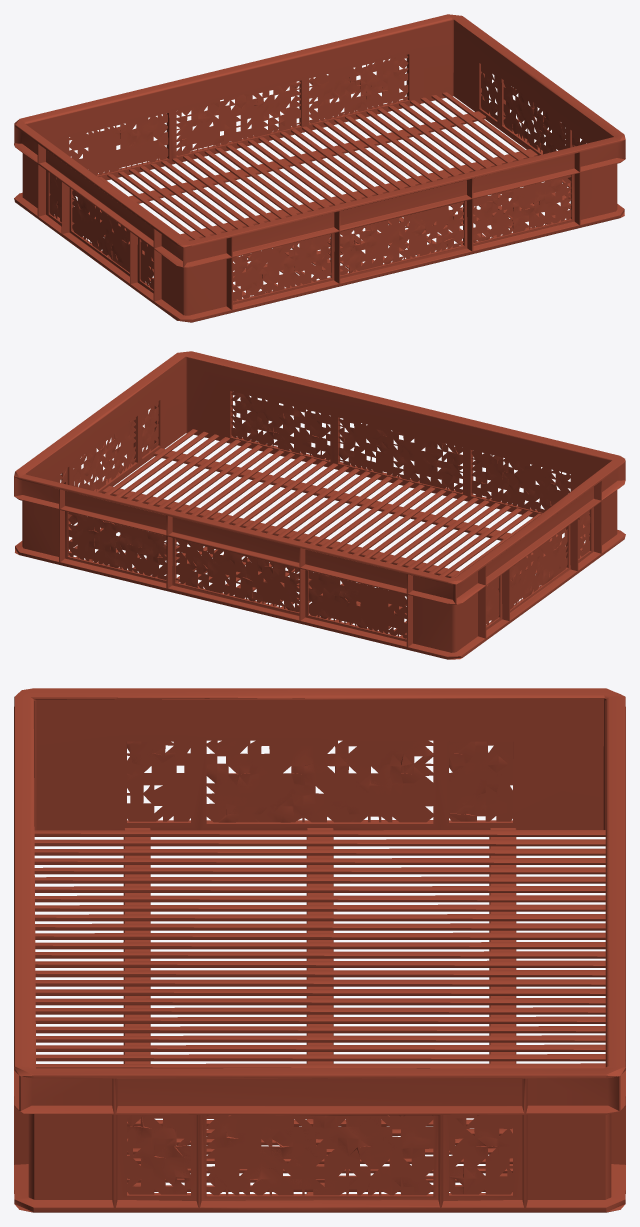
File: tote_red.glb
The picture shows the model from 3 angles, top to bottom: view 1: azimuth 30°, elevation 25°; view 2: azimuth 150°, elevation 25°; view 3: azimuth 270°, elevation 25°; orthographic projection. The views are drawn at different scales.
Visible parts, largest first — view 1: tote_red_mesh; view 2: tote_red_mesh; view 3: tote_red_mesh.
Boxes of the visible parts, <box> form: tote_red_mesh: <box>14,14,625,322</box>; tote_red_mesh: <box>14,351,625,659</box>; tote_red_mesh: <box>14,688,625,1212</box>.
Bounding box in the file's own units: 0.6015 × 0.1 × 0.4017.
